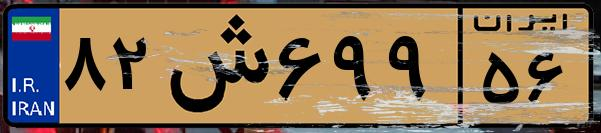2: (110, 28, 158, 98)
5: (475, 38, 525, 113)
6: (270, 28, 330, 110), (525, 38, 570, 115)
8: (57, 26, 110, 100)
9: (385, 28, 445, 110), (330, 28, 385, 110)
ش: (158, 12, 270, 120)
